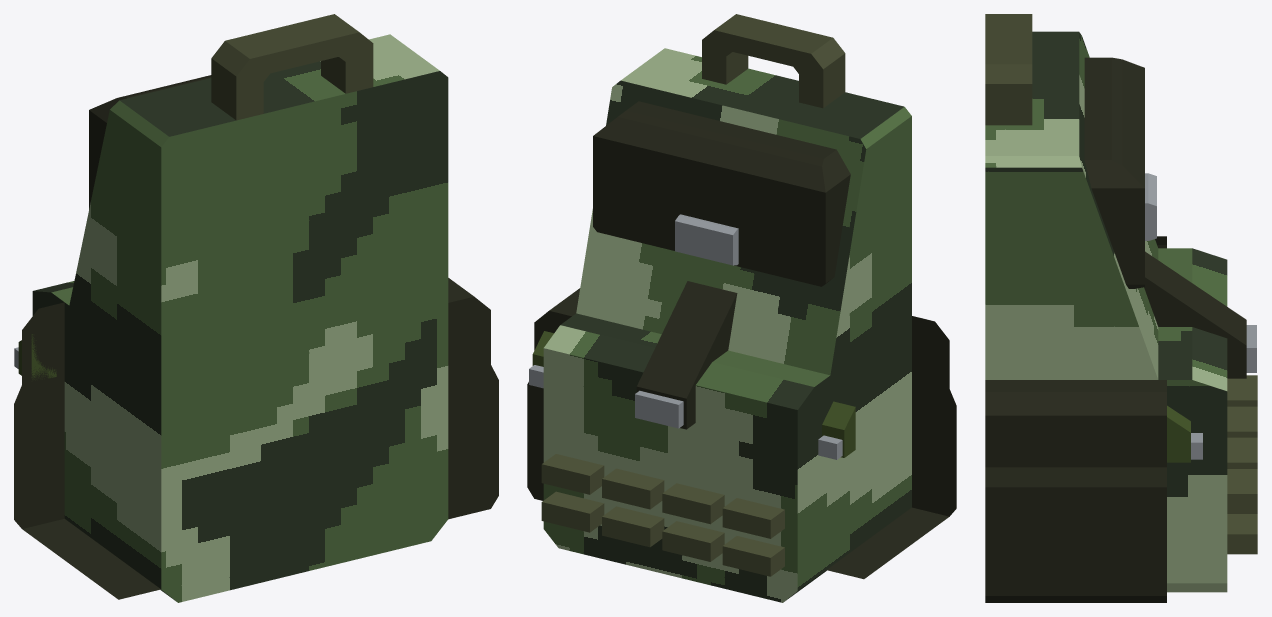
The model's file is scav_backpack.glb.
3 views of the same model, side by side, from view 1: azimuth 30°, elevation 25°; view 2: azimuth 150°, elevation 25°; view 3: azimuth 270°, elevation 25° (orthographic). The views are drawn at different scales.
Parts seen in each view (by area): view 1: Backpack_Body; view 2: Backpack_Body; view 3: Backpack_Body.
Part boxes in pixels (x1,y1,x2,y2): Backpack_Body: (14, 14, 498, 602); Backpack_Body: (527, 14, 956, 602); Backpack_Body: (985, 14, 1257, 602).
Bounding box in the file's own units: 0.3872 × 0.5015 × 0.25.
Materials: 10 (1 with a texture image).
